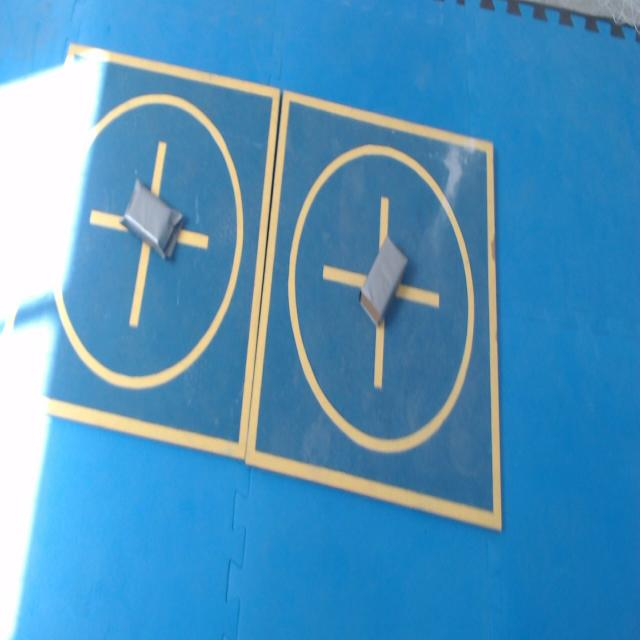direita: (360, 237, 407, 324)
esquerda: (122, 180, 182, 258)
